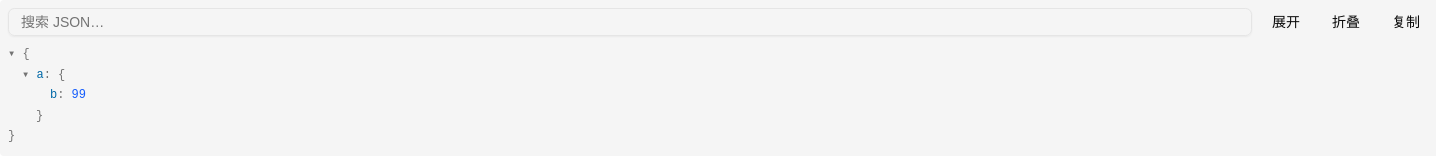
JsonViewer › collapse all hides nested values; expand all shows them again
expect the text "99" is shown: met, box [72,88,86,102]
What coordinates should you click on to do the following:
click the button "折叠"
I would click on:
 (1346, 22)
Its box is [1320,8,1372,36].
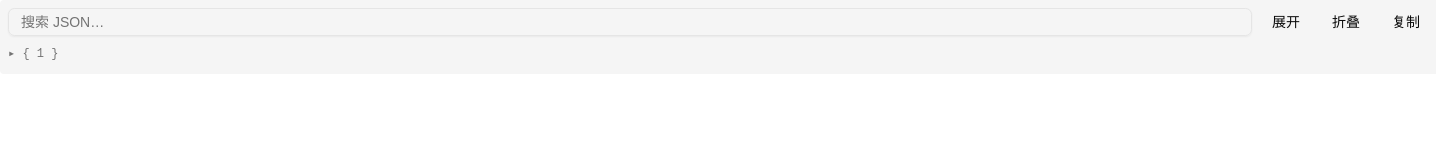
expect the text "99" is gone: met
What coordinates should you click on to do the following:
click the button "展开"
I would click on:
 (1286, 22)
Its box is [1260,8,1312,36].
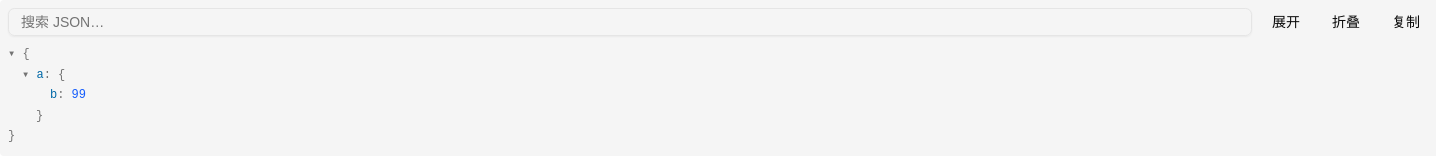
expect the text "99" is shown: met, box [72,88,86,102]
